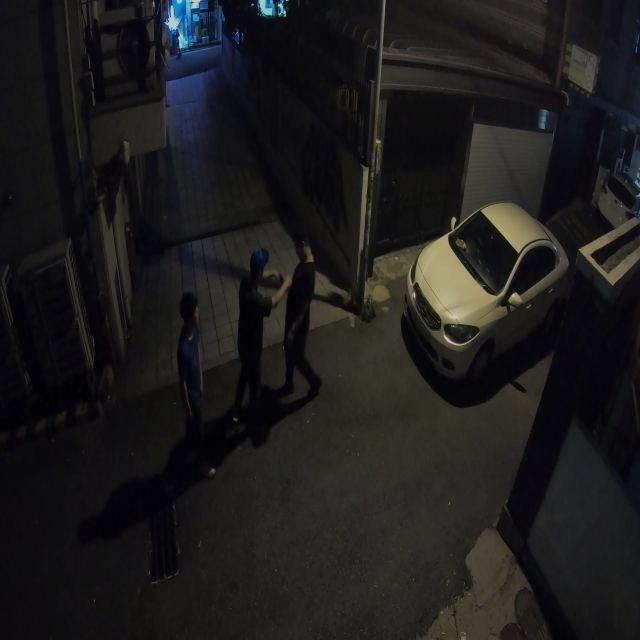fight: (230, 237, 323, 442)
non-fight: (174, 293, 211, 420)
